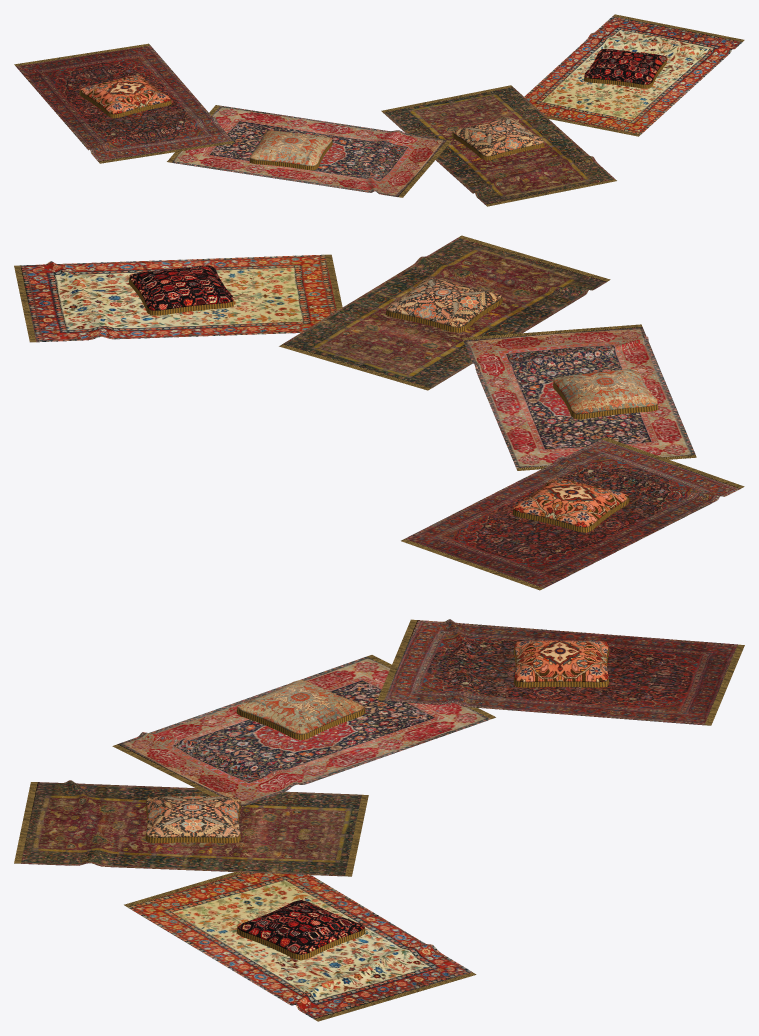
File: ottoman_pillow_and_carpets_v2.glb
3 renders of one model, top to bottom at view 1: azimuth 30°, elevation 25°; view 2: azimuth 150°, elevation 25°; view 3: azimuth 270°, elevation 25°, orthographic. The views are drawn at different scales.
Parts seen in each view (by area): view 1: Tapis_Tapis1_0, Tapis003_Tapis2_0, Tapis002_Tapis3_0, Tapis001_Tapis4_0, Coussin003_Coussin2_0, Coussin001_Coussin4_0, Coussin_Coussin1_0, Coussin002_Coussin3_0, Coussin_frange_Coussin1_0, Coussin_frange002_Coussin3_0, Coussin_frange003_Coussin2_0, Coussin_frange001_Coussin4_0; view 2: Tapis_Tapis1_0, Tapis003_Tapis2_0, Tapis002_Tapis3_0, Tapis001_Tapis4_0, Coussin003_Coussin2_0, Coussin001_Coussin4_0, Coussin_Coussin1_0, Coussin002_Coussin3_0, Coussin_frange_Coussin1_0, Coussin_frange002_Coussin3_0, Coussin_frange001_Coussin4_0, Coussin_frange003_Coussin2_0; view 3: Tapis_Tapis1_0, Tapis002_Tapis3_0, Tapis003_Tapis2_0, Tapis001_Tapis4_0, Coussin_Coussin1_0, Coussin002_Coussin3_0, Coussin003_Coussin2_0, Coussin001_Coussin4_0, Coussin_frange003_Coussin2_0, Coussin_frange001_Coussin4_0.
Part boxes in pixels (x1,y1,x2,y2): Tapis_Tapis1_0: (14,43,234,163); Tapis003_Tapis2_0: (523,14,744,136); Tapis002_Tapis3_0: (381,85,616,206); Tapis001_Tapis4_0: (167,105,451,197); Coussin003_Coussin2_0: (584,49,666,84); Coussin001_Coussin4_0: (250,130,331,166); Coussin_Coussin1_0: (79,75,170,114); Coussin002_Coussin3_0: (452,117,543,156); Coussin_frange_Coussin1_0: (79,90,171,118); Coussin_frange002_Coussin3_0: (452,133,544,160); Coussin_frange003_Coussin2_0: (584,58,666,88); Coussin_frange001_Coussin4_0: (249,139,332,170); Tapis_Tapis1_0: (401,437,744,590); Tapis003_Tapis2_0: (14,254,342,342); Tapis002_Tapis3_0: (279,235,610,390); Tapis001_Tapis4_0: (462,324,696,470); Coussin003_Coussin2_0: (129,265,233,310); Coussin001_Coussin4_0: (553,369,657,414); Coussin_Coussin1_0: (513,477,628,527); Coussin002_Coussin3_0: (386,277,502,327); Coussin_frange_Coussin1_0: (512,497,629,532); Coussin_frange002_Coussin3_0: (385,297,502,332); Coussin_frange001_Coussin4_0: (553,381,658,419); Coussin_frange003_Coussin2_0: (129,277,233,315); Tapis_Tapis1_0: (377,619,744,725); Tapis002_Tapis3_0: (14,780,368,876); Tapis003_Tapis2_0: (124,872,476,1021); Tapis001_Tapis4_0: (112,655,495,807); Coussin_Coussin1_0: (514,640,608,682); Coussin002_Coussin3_0: (146,796,240,837); Coussin003_Coussin2_0: (237,900,364,954); Coussin001_Coussin4_0: (237,680,364,734); Coussin_frange003_Coussin2_0: (236,928,365,960); Coussin_frange001_Coussin4_0: (236,708,365,740).
Bounding box in the file's own units: 9.82 × 0.2627 × 7.54.
Materials: 8 (8 with a texture image).
